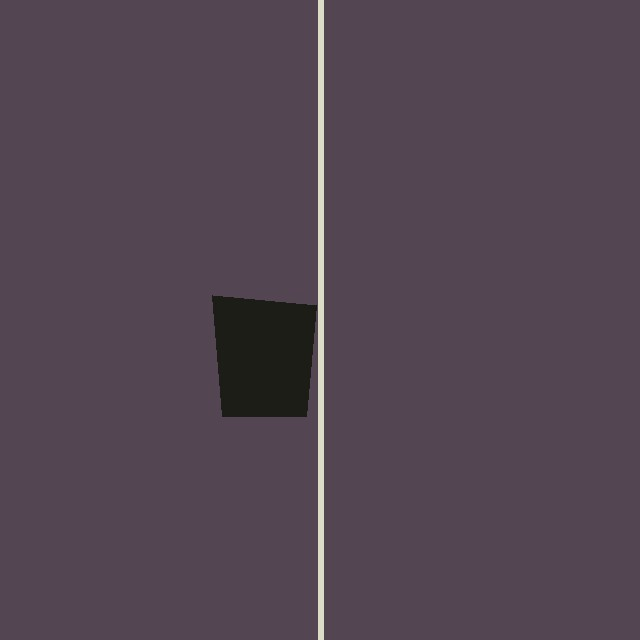damaged_surface: (212, 295, 316, 416)
